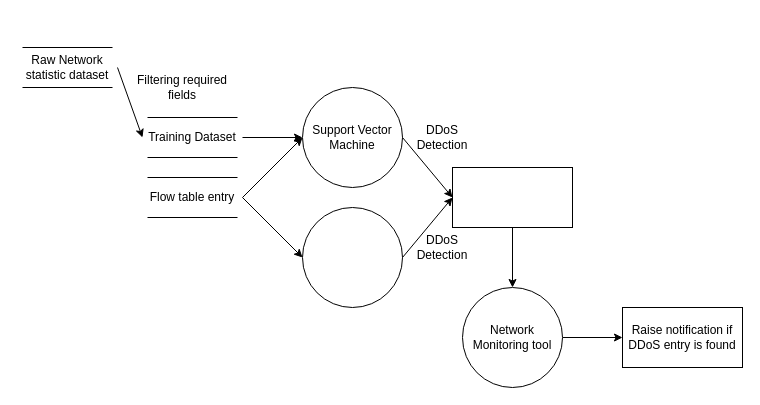
The diagram is 760 pixels wide and 405 high, and some of its shapes have lost their labels. Each missing label, with the box of its shape:
Entropy based Discretization: (302, 206, 402, 308)
Entry into log file if DDoS detected: (452, 166, 572, 228)
